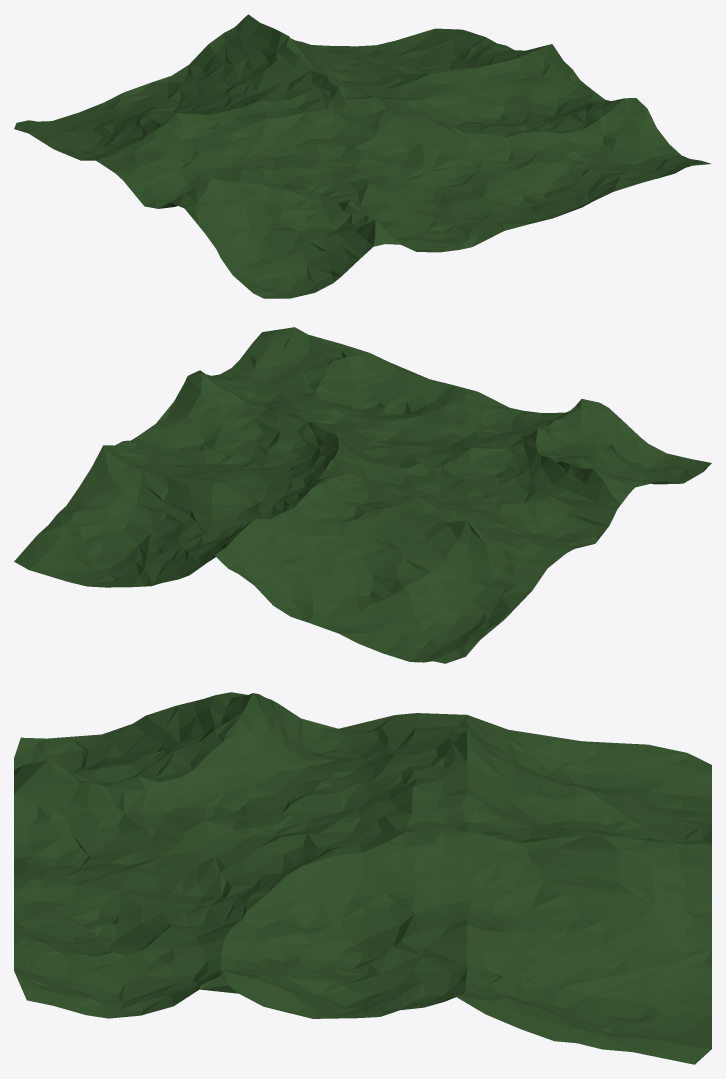
File: SM_landscape_11.fbx
3 views of the same model, one above another, from view 1: azimuth 30°, elevation 25°; view 2: azimuth 150°, elevation 25°; view 3: azimuth 270°, elevation 25° (orthographic). The views are drawn at different scales.
Parts seen in each view (by area): view 1: landscape_11; view 2: landscape_11; view 3: landscape_11.
Part boxes in pixels (box(x1,y1,x2,y2)): landscape_11: box(14, 14, 710, 298); landscape_11: box(14, 327, 711, 663); landscape_11: box(14, 692, 711, 1064).
Bounding box in the file's own units: 2224 × 353 × 2224.
